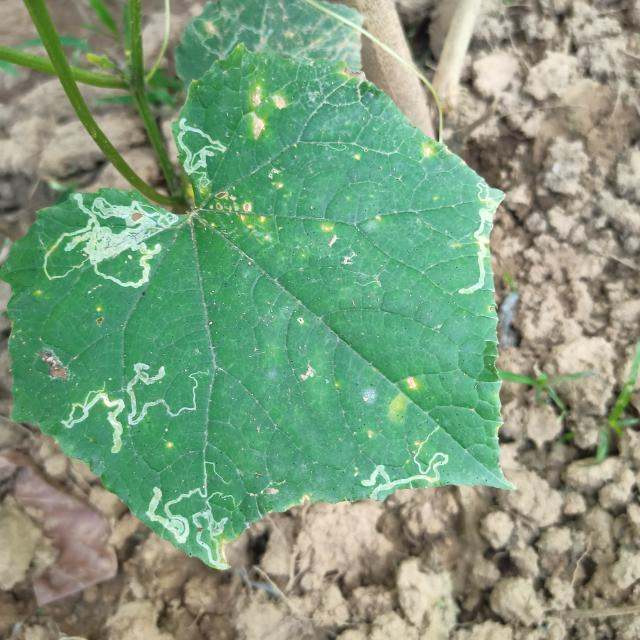disease_cucumber: (215, 191, 275, 247), (243, 85, 287, 145), (380, 374, 424, 432)
